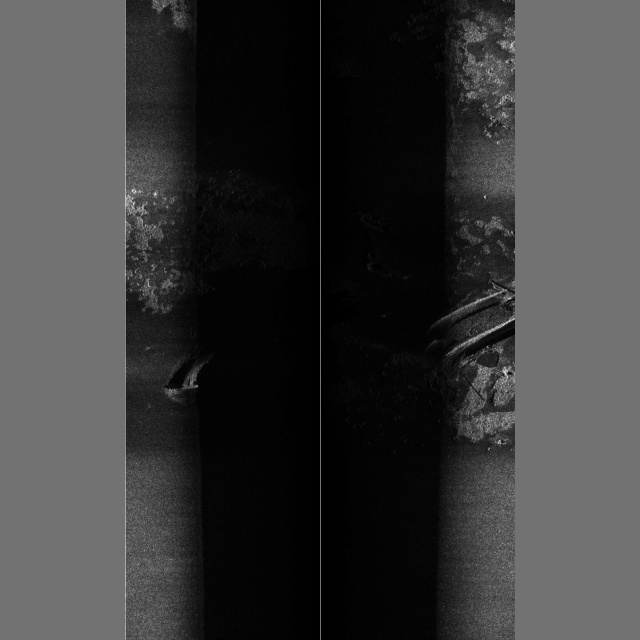Shipwreck: (172, 280, 515, 402)
